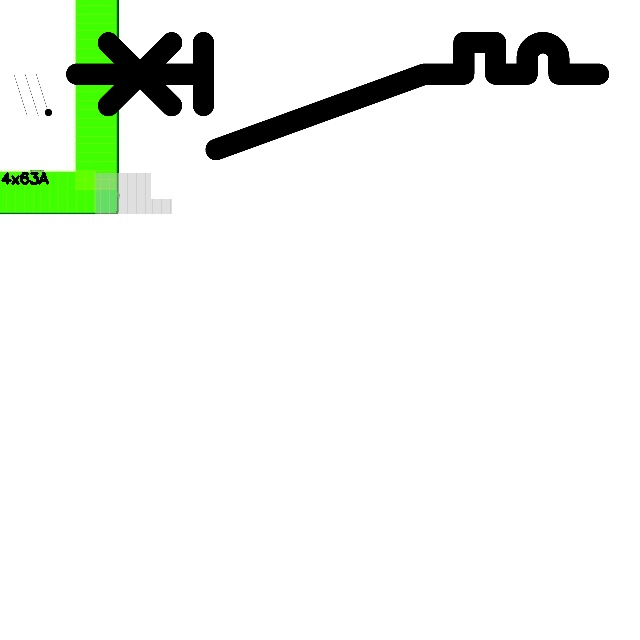interruptor_termomagnetico: (63, 29, 612, 163)
